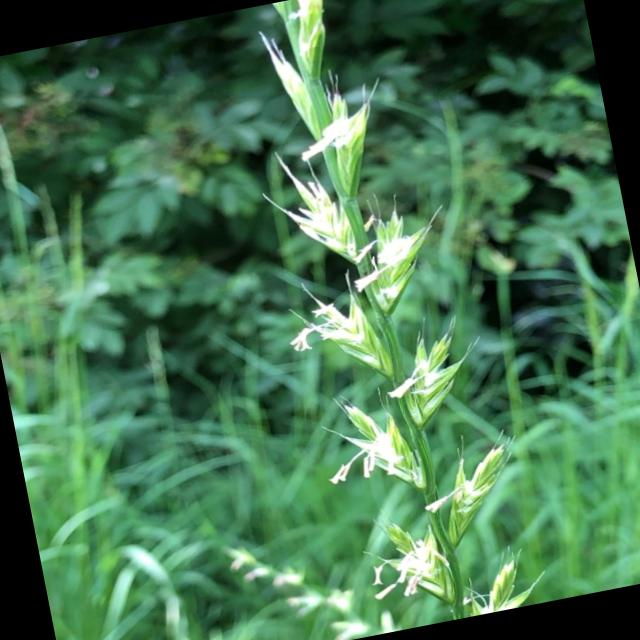Lolium: (221, 0, 548, 639)
